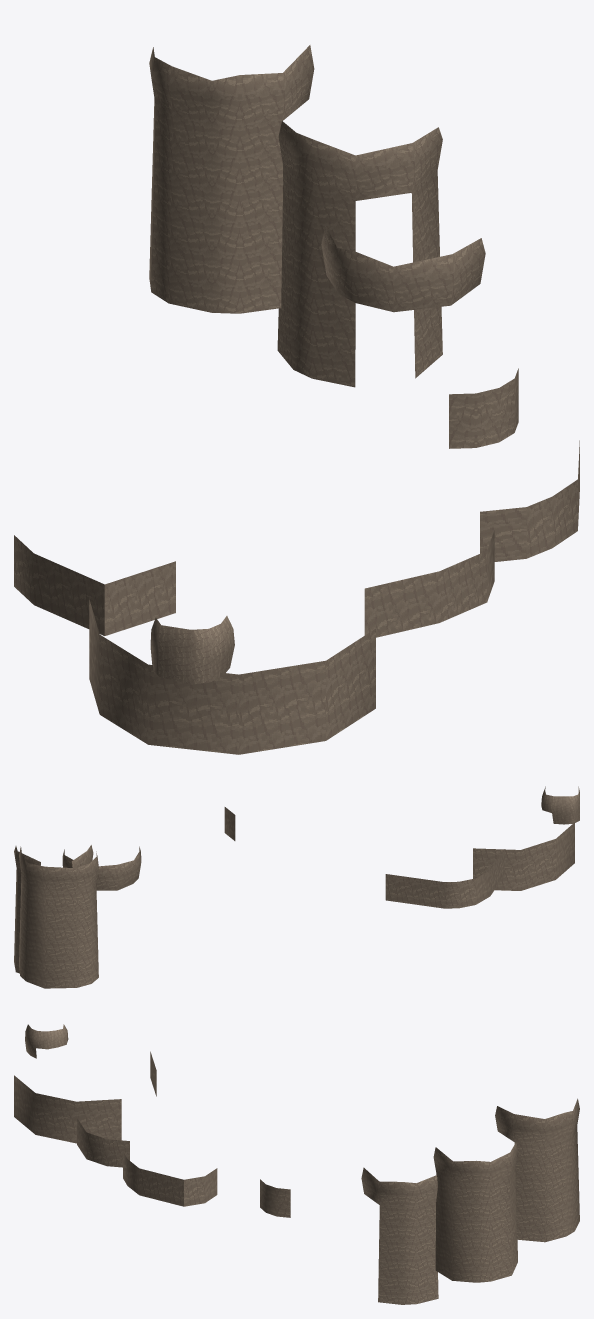
File: kd_connection_world-outer_surface_19_1.glb
3 renders of one model, top to bottom at view 1: azimuth 30°, elevation 25°; view 2: azimuth 150°, elevation 25°; view 3: azimuth 270°, elevation 25°, orthographic. The views are drawn at different scales.
Visible parts, largest first — view 1: kd_connection_world-outer_surface_19_1; view 2: kd_connection_world-outer_surface_19_1; view 3: kd_connection_world-outer_surface_19_1.
Boxes of the visible parts, <box> form: kd_connection_world-outer_surface_19_1: <box>14,45,579,754</box>; kd_connection_world-outer_surface_19_1: <box>14,786,579,988</box>; kd_connection_world-outer_surface_19_1: <box>14,1024,579,1304</box>.
Size of the model in its own units: 527 by 249 by 721.
1 material, 1 textured.
